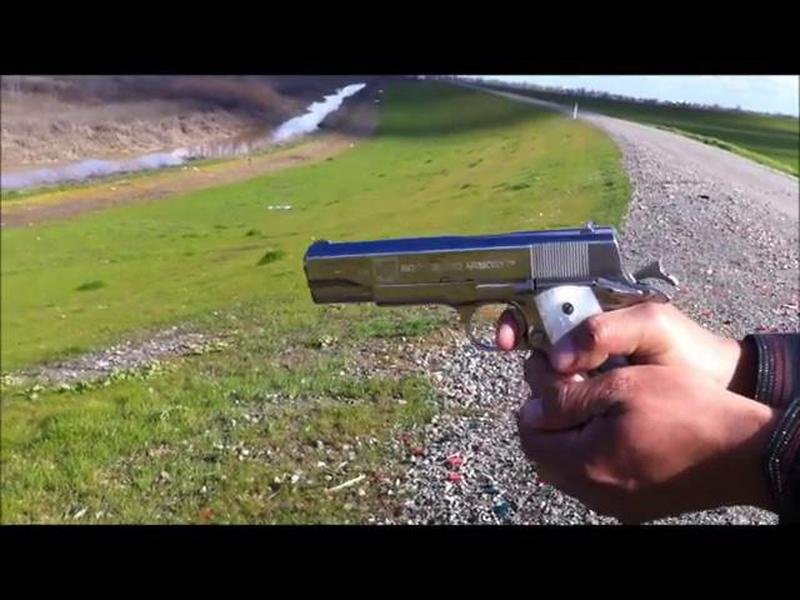Pistola: (281, 210, 682, 418)
